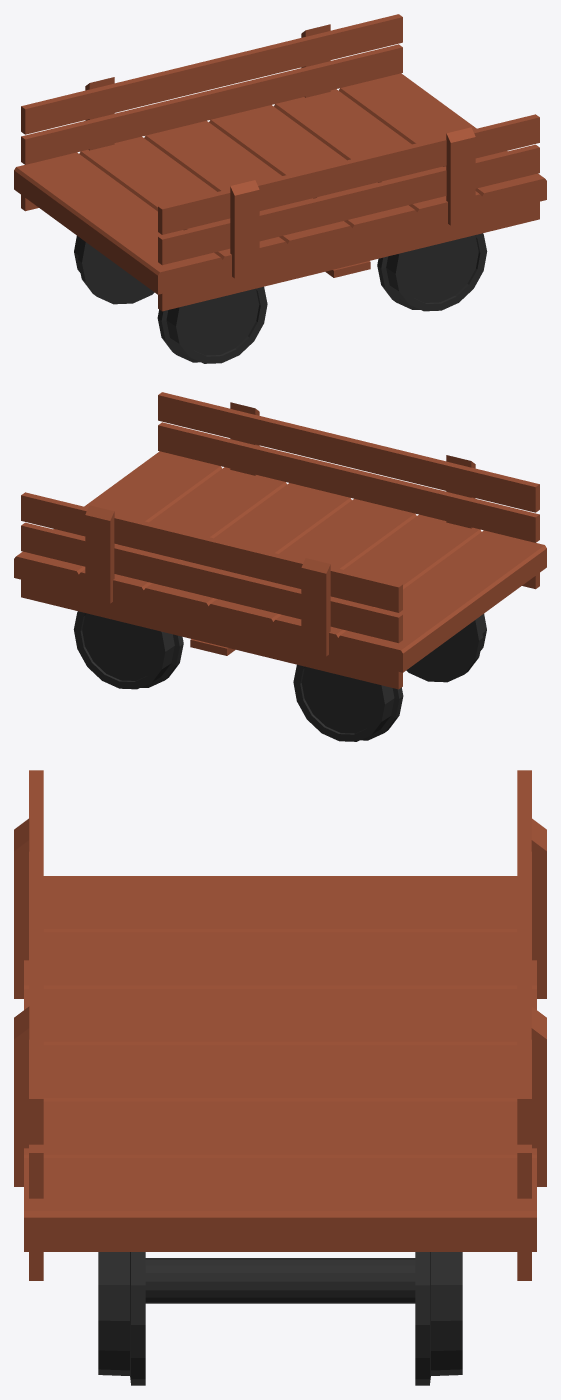
Rendered from Small Flatcar.fbx.
3 views of the same model, one above another, from view 1: azimuth 30°, elevation 25°; view 2: azimuth 150°, elevation 25°; view 3: azimuth 270°, elevation 25° (orthographic). The views are drawn at different scales.
Parts seen in each view (by area): view 1: Body, FBTransform.005, FBTransform.006; view 2: Body, FBTransform.005, FBTransform.006; view 3: Body, FBTransform.006.
Boxes of the visible parts, left/top/right/bottom form: Body: left=14, top=14, right=546, bottom=311; FBTransform.005: left=74, top=236, right=267, bottom=363; FBTransform.006: left=377, top=233, right=487, bottom=311; Body: left=14, top=392, right=546, bottom=689; FBTransform.005: left=293, top=614, right=486, bottom=741; FBTransform.006: left=73, top=611, right=183, bottom=689; Body: left=14, top=770, right=546, bottom=1280; FBTransform.006: left=98, top=1252, right=462, bottom=1385.
Bounding box in the file's own units: 3.6 × 1.77 × 2.4.
1 material, 1 textured.
